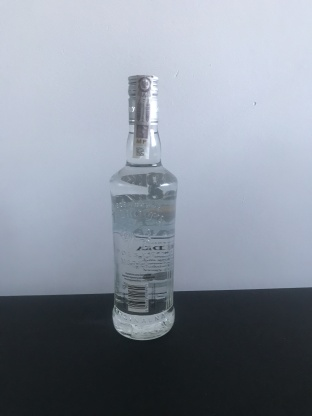nakretka: (125, 69, 160, 128)
